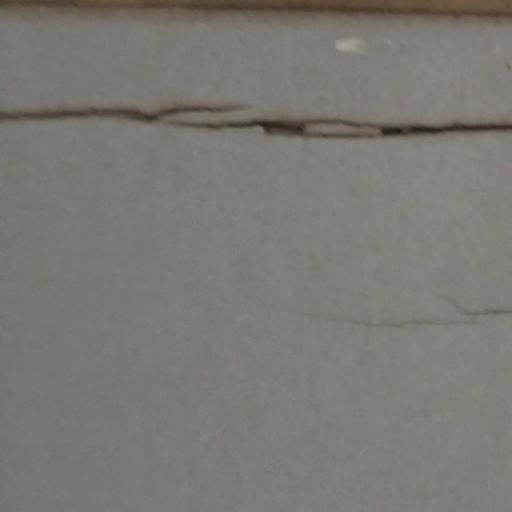major_crack: (0, 73, 512, 171)
